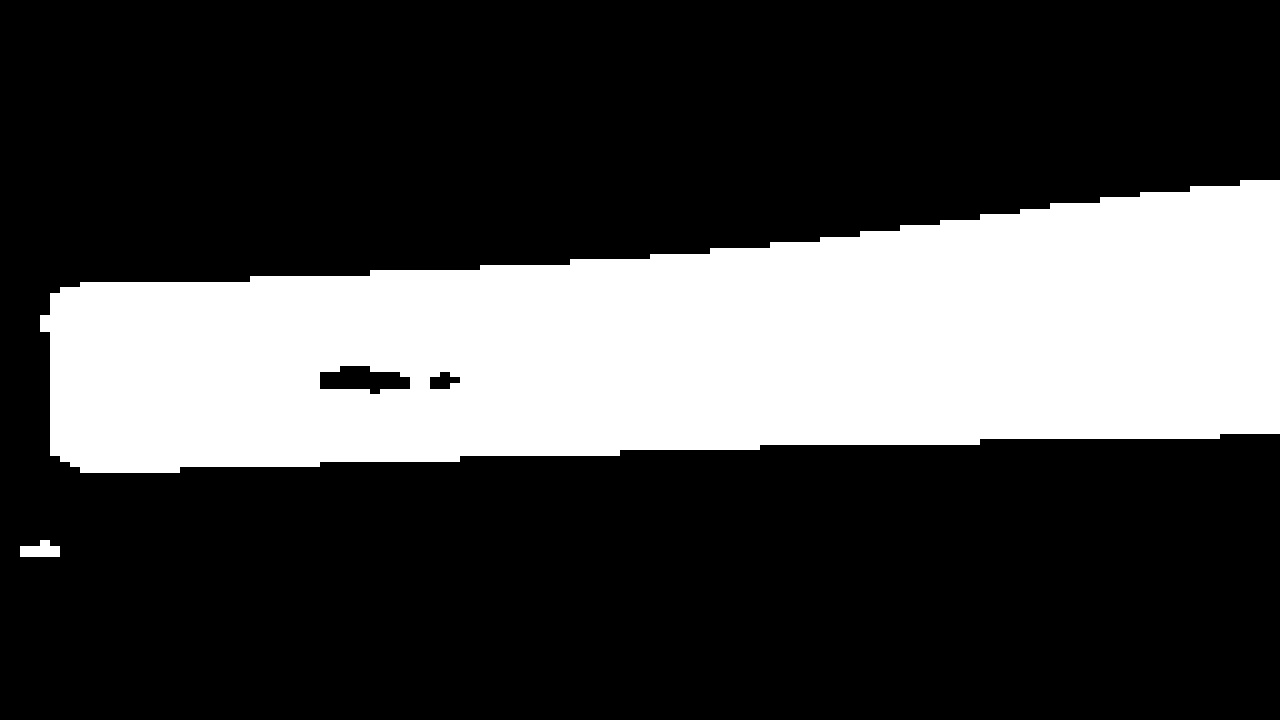Turbine: (40, 163, 1275, 486)
